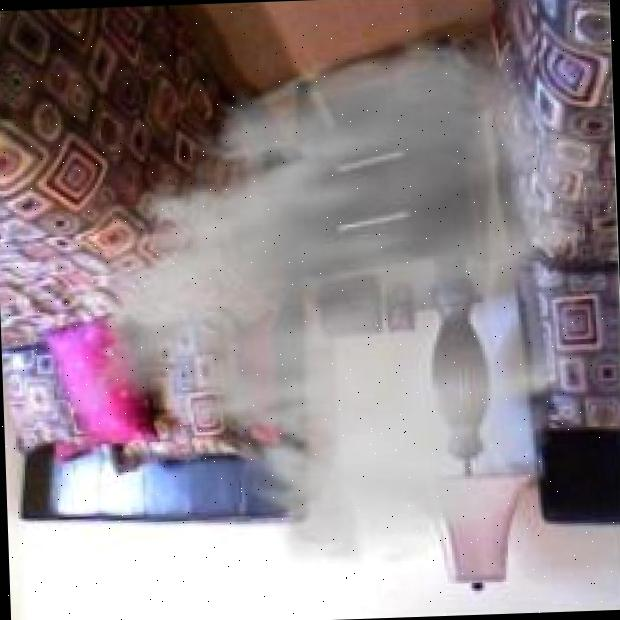smoke: (54, 22, 620, 580)
